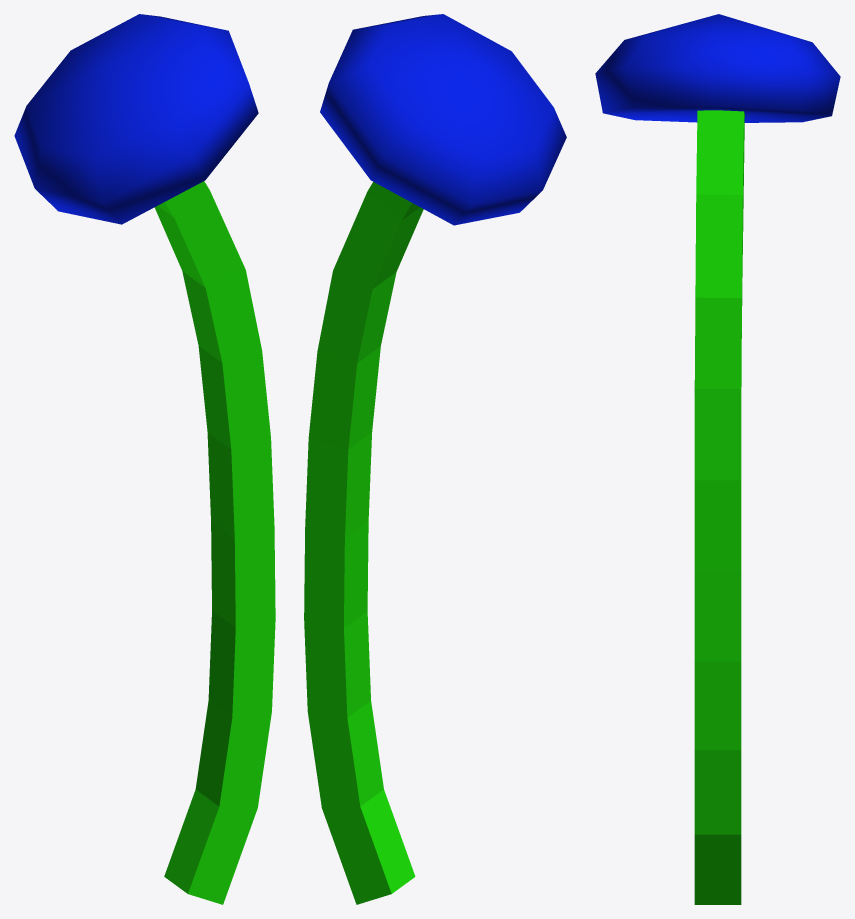
File: Champis.fbx
3 views of the same model, side by side, from view 1: azimuth 30°, elevation 25°; view 2: azimuth 150°, elevation 25°; view 3: azimuth 270°, elevation 25° (orthographic).
Parts seen in each view (by area): view 1: Tallo1.002, Tallo1.003; view 2: Tallo1.002, Tallo1.003; view 3: Tallo1.002, Tallo1.003.
Part boxes in pixels (box(x1,y1,x2,y2)): Tallo1.002: box(154, 181, 275, 904); Tallo1.003: box(14, 14, 258, 224); Tallo1.002: box(304, 182, 423, 904); Tallo1.003: box(320, 14, 566, 225); Tallo1.002: box(694, 110, 744, 904); Tallo1.003: box(595, 14, 840, 122).
Size of the model in its own units: 393 by 1444 by 373.
